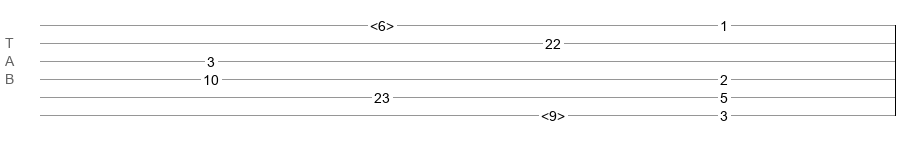1: (720, 18, 728, 28)
10: (203, 72, 219, 82)
2: (720, 72, 728, 82)
22: (545, 36, 561, 46)
23: (374, 90, 390, 100)
3: (207, 54, 215, 64), (720, 108, 728, 118)
5: (720, 90, 728, 100)
harmonic: (370, 18, 394, 28), (541, 108, 565, 118)
